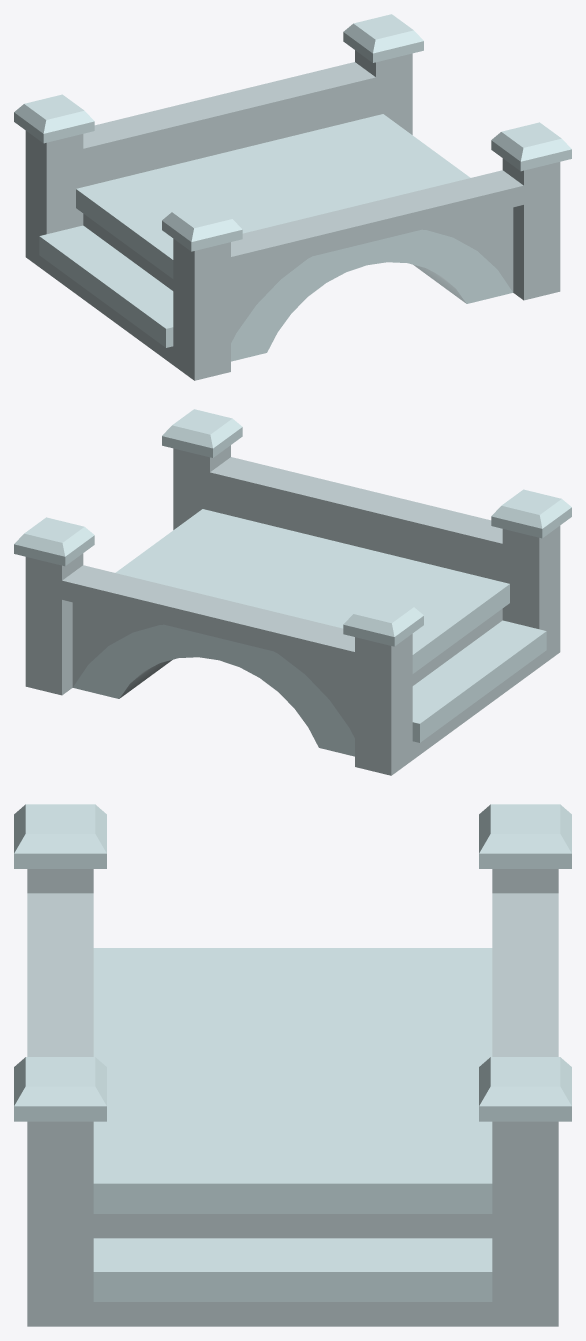
Rendered from bridge_stoneRoundNarrow.glb.
The picture shows the model from 3 angles, top to bottom: view 1: azimuth 30°, elevation 25°; view 2: azimuth 150°, elevation 25°; view 3: azimuth 270°, elevation 25°; orthographic projection. The views are drawn at different scales.
Parts seen in each view (by area): view 1: bridge_stoneRoundNarrow; view 2: bridge_stoneRoundNarrow; view 3: bridge_stoneRoundNarrow.
Part boxes in pixels (x1,y1,x2,y2): bridge_stoneRoundNarrow: (14, 14, 571, 380); bridge_stoneRoundNarrow: (14, 409, 571, 775); bridge_stoneRoundNarrow: (14, 804, 571, 1326).
Bounding box in the file's own units: 1.04 × 0.4 × 0.84.
1 material, 1 textured.
